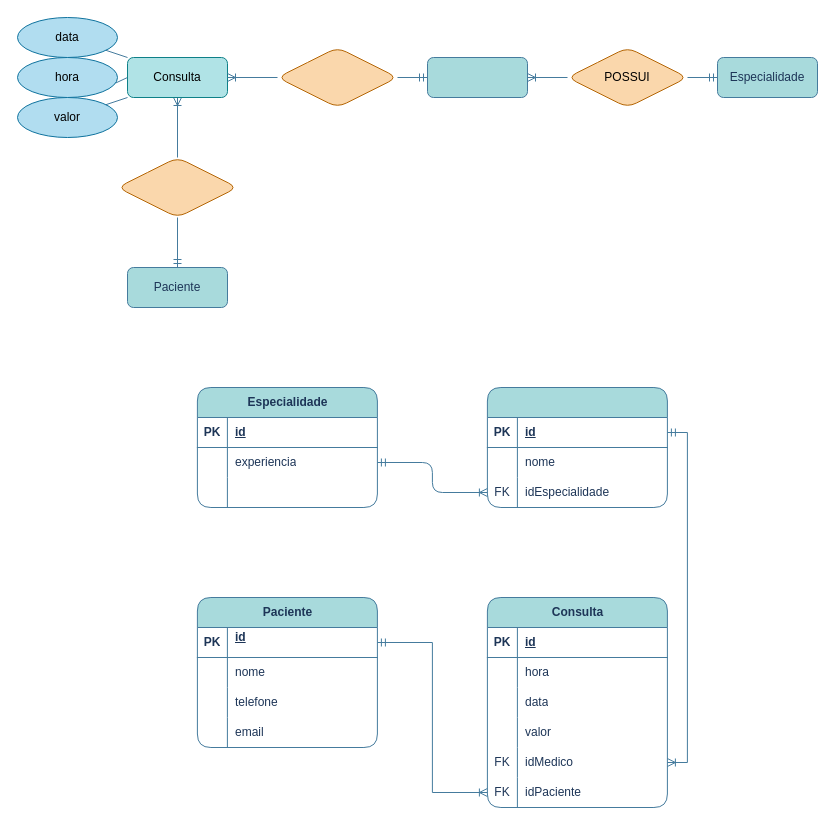
Some shapes in this 835 by 825 pixel diagram are drawn without their labels. The box of each missing label's shape, as (x1, y1, x2, y2) in pixels:
FAZ: (276, 46, 398, 108)
Medico: (486, 386, 667, 508)
Médico: (426, 56, 528, 98)
TEM: (116, 156, 238, 218)
